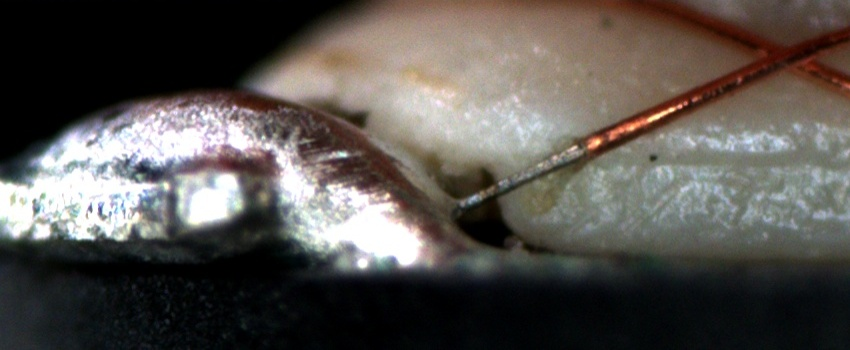CL: (742, 28, 834, 82)
DL: (621, 128, 850, 192)
TS: (454, 143, 585, 212)
